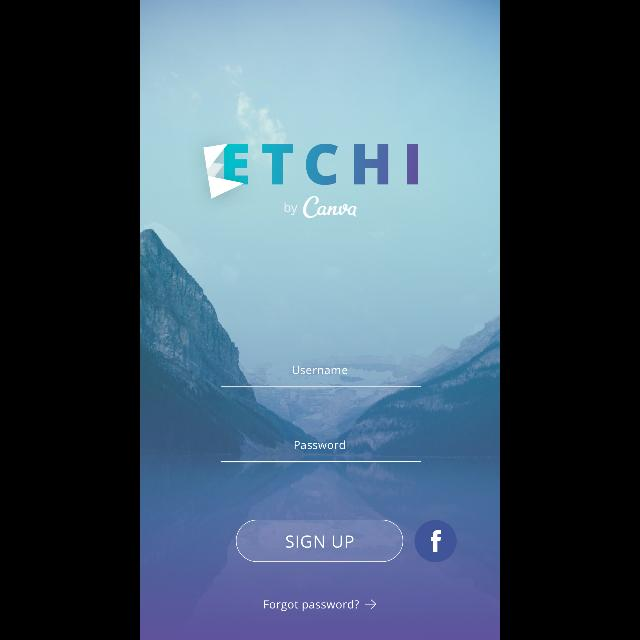backgroundimage: (140, 1, 500, 640)
icon: (415, 520, 457, 562), (366, 599, 376, 609)
image: (204, 144, 418, 218)
input: (221, 440, 421, 462), (221, 367, 421, 388)
text: (264, 599, 360, 611), (295, 440, 345, 450), (292, 366, 348, 374)
textbutton: (236, 520, 404, 562)
